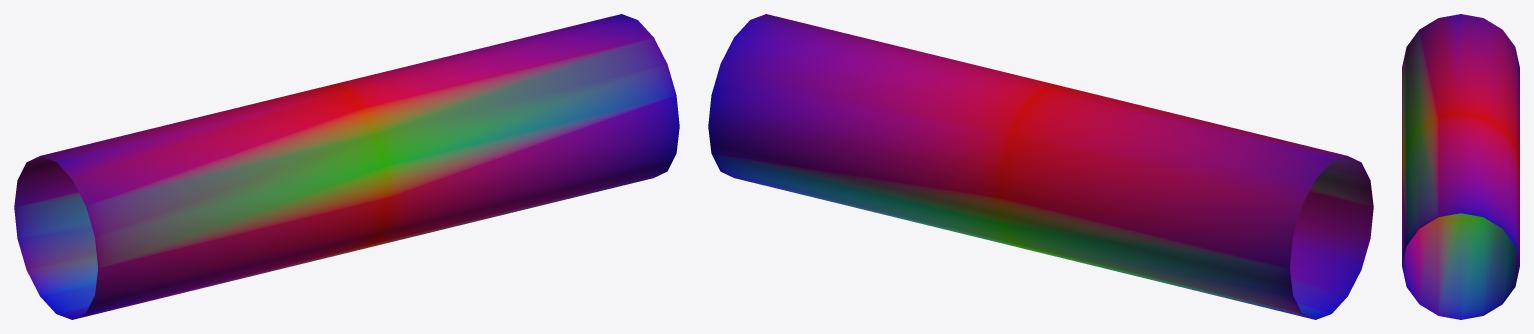
Rendered from PipaB_M_2.fbx.
The picture shows the model from 3 angles, left to right: view 1: azimuth 30°, elevation 25°; view 2: azimuth 150°, elevation 25°; view 3: azimuth 270°, elevation 25°; orthographic projection. The views are drawn at different scales.
Visible parts, largest first — view 1: Pipe; view 2: Pipe; view 3: Pipe.
Part boxes in pixels (left/top/right/bottom): Pipe: left=14, top=14, right=679, bottom=319; Pipe: left=708, top=14, right=1373, bottom=319; Pipe: left=1402, top=14, right=1519, bottom=319.
Size of what is drawn, in the model's own units: 200 by 50 by 50.
